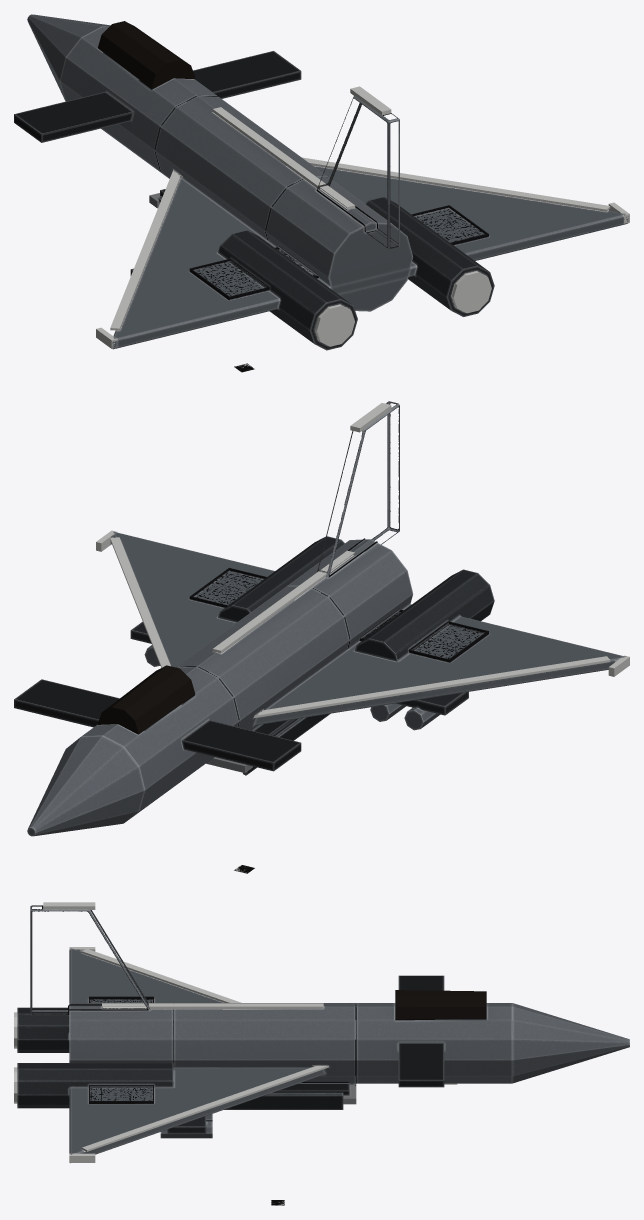
File: chs_plague.fbx
The picture shows the model from 3 angles, top to bottom: view 1: azimuth 30°, elevation 25°; view 2: azimuth 150°, elevation 25°; view 3: azimuth 270°, elevation 25°; orthographic projection. The views are drawn at different scales.
Visible parts, largest first — view 1: base_bar, base_glow_running_bar; view 2: base_bar, base_glow_running_bar, pylon_bar, bay_bar; view 3: base_bar, base_glow_running_bar, bay_bar, pylon_bar.
Boxes of the visible parts, left/top/right/bottom form: base_bar: left=14, top=14, right=629, bottom=350; base_glow_running_bar: left=96, top=86, right=629, bottom=348; base_bar: left=14, top=401, right=626, bottom=836; base_glow_running_bar: left=96, top=403, right=629, bottom=718; pylon_bar: left=130, top=621, right=468, bottom=730; bay_bar: left=206, top=713, right=330, bottom=775; base_bar: left=17, top=905, right=629, bottom=1163; base_glow_running_bar: left=14, top=902, right=328, bottom=1162; bay_bar: left=224, top=1083, right=356, bottom=1109; pylon_bar: left=160, top=1114, right=212, bottom=1138.
Size of the model in its own units: 758 by 505 by 945.
Materials: 2 (2 with a texture image).
